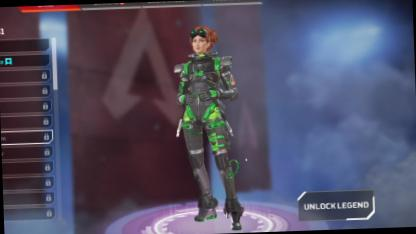Target: (172, 24, 239, 190)
